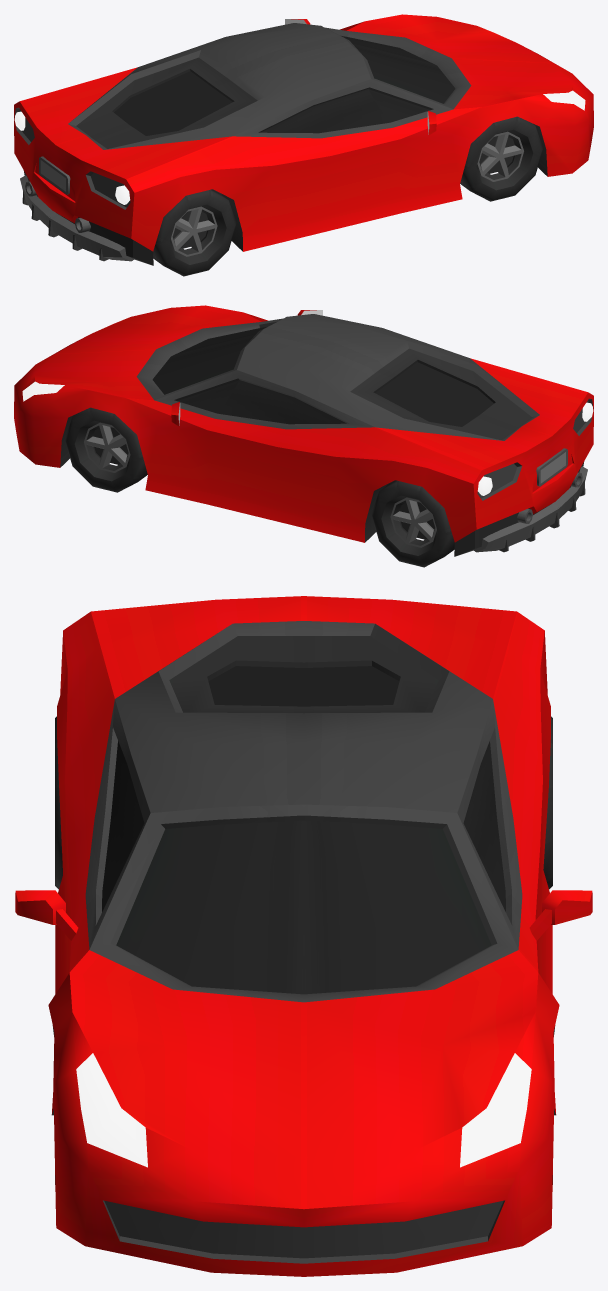
The model's file is italia.glb.
3 renders of one model, top to bottom at view 1: azimuth 30°, elevation 25°; view 2: azimuth 150°, elevation 25°; view 3: azimuth 270°, elevation 25°, orthographic. The views are drawn at different scales.
Visible parts, largest first — view 1: italia; view 2: italia; view 3: italia.
Boxes of the visible parts, x1,y1,x2,y2 form: italia: (14, 14, 593, 276); italia: (14, 305, 593, 567); italia: (15, 596, 592, 1276).
Size of the model in its own units: 5.24 by 1.34 by 2.5.
4 materials, 3 textured.
